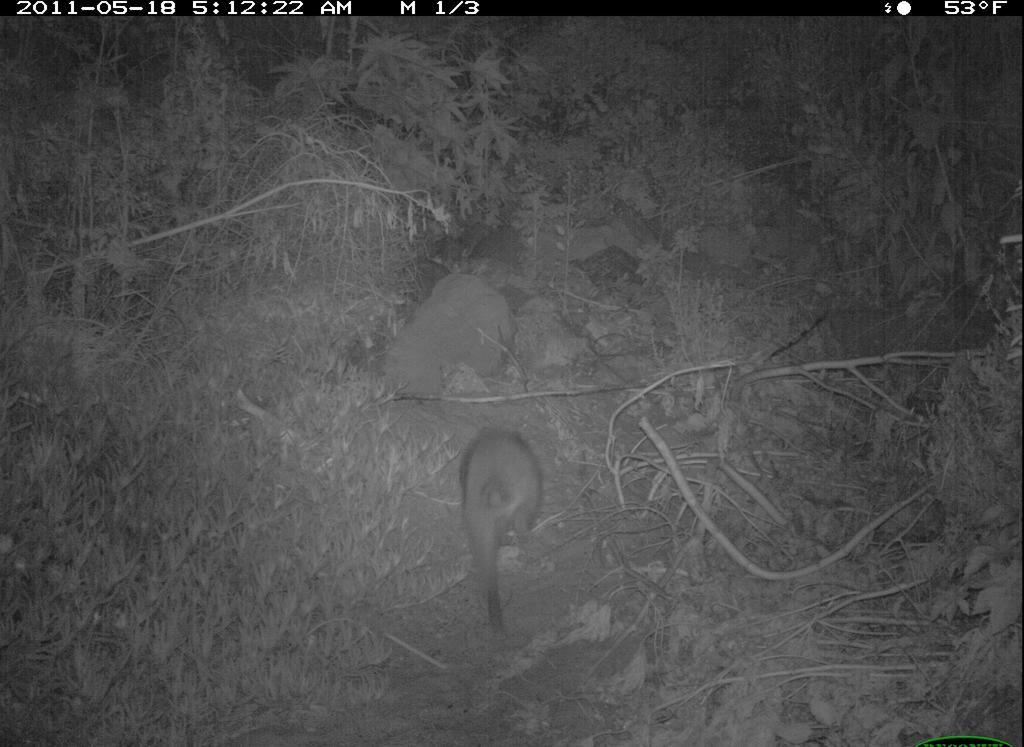raccoon: (438, 400, 565, 656)
